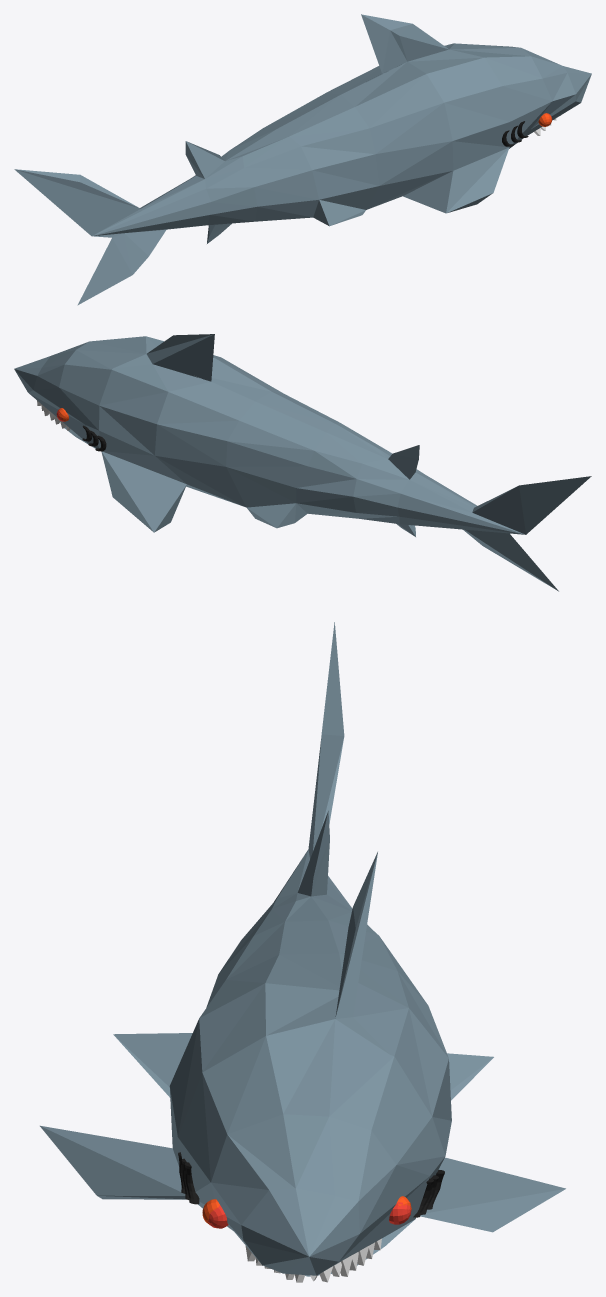
Rendered from shark.glb.
The picture shows the model from 3 angles, top to bottom: view 1: azimuth 30°, elevation 25°; view 2: azimuth 150°, elevation 25°; view 3: azimuth 270°, elevation 25°; orthographic projection. The views are drawn at different scales.
Parts seen in each view (by area): view 1: group1278180845; view 2: group1278180845; view 3: group1278180845.
Part boxes in pixels (x1=…): group1278180845: x1=14, y1=14, x2=591, y2=305; group1278180845: x1=14, y1=334, x2=591, y2=591; group1278180845: x1=40, y1=622, x2=565, y2=1282.
Bounding box in the file's own units: 0.9218 × 0.3021 × 0.3682.
